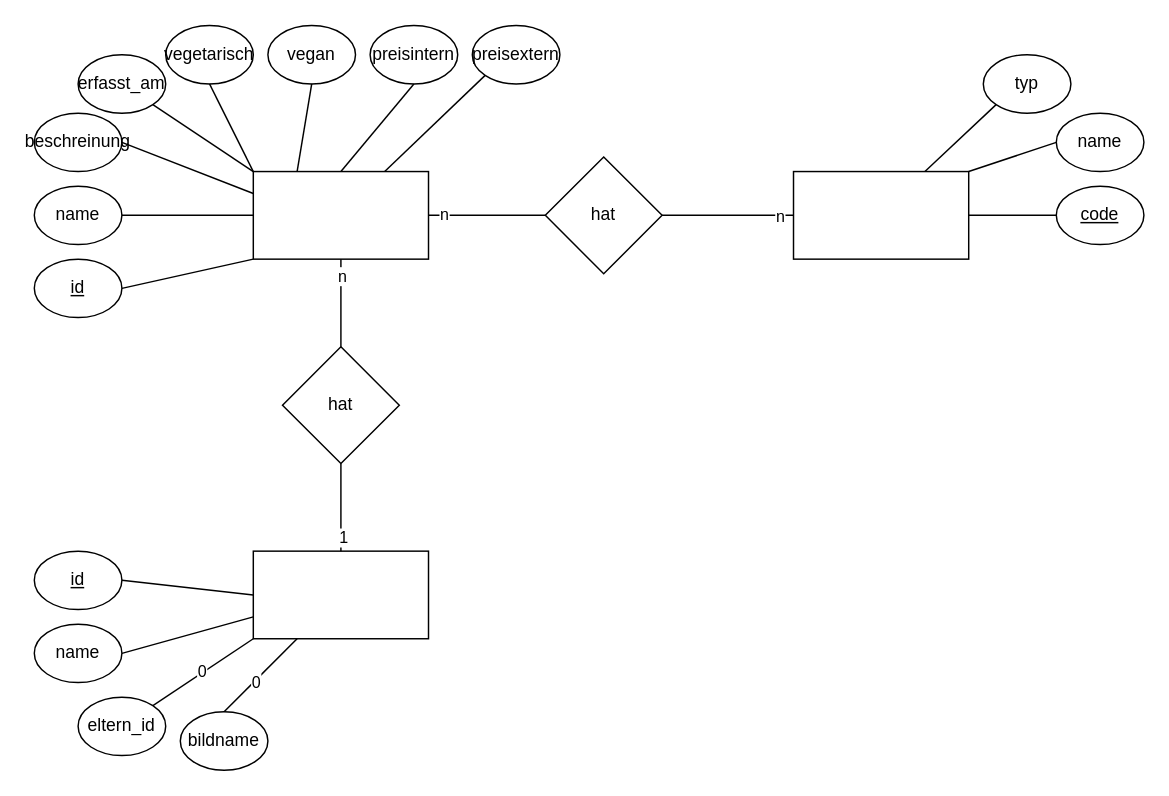
This 1169x796 diagram has some shape labels left out. The centre of each missing label's shape, as x and y in pixels:
allergen: [880,214]
gericht: [340,214]
kategorie: [340,594]
